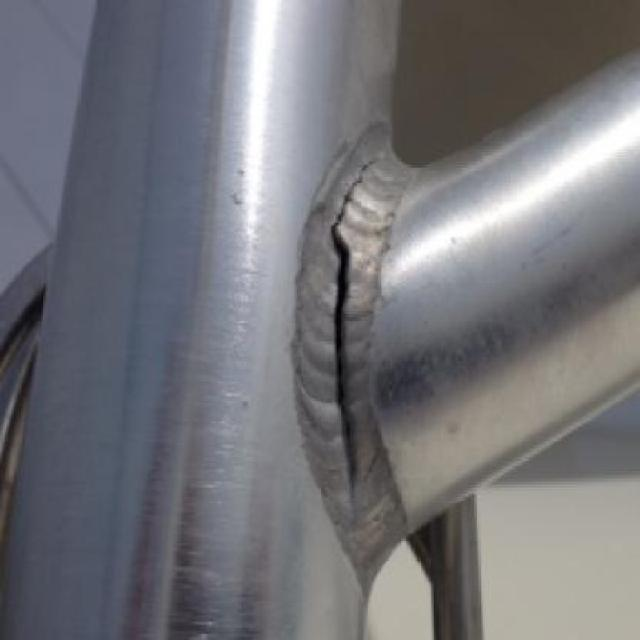Crack: (321, 142, 387, 524)
